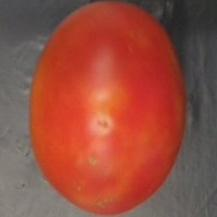unripe: (28, 0, 187, 217)
